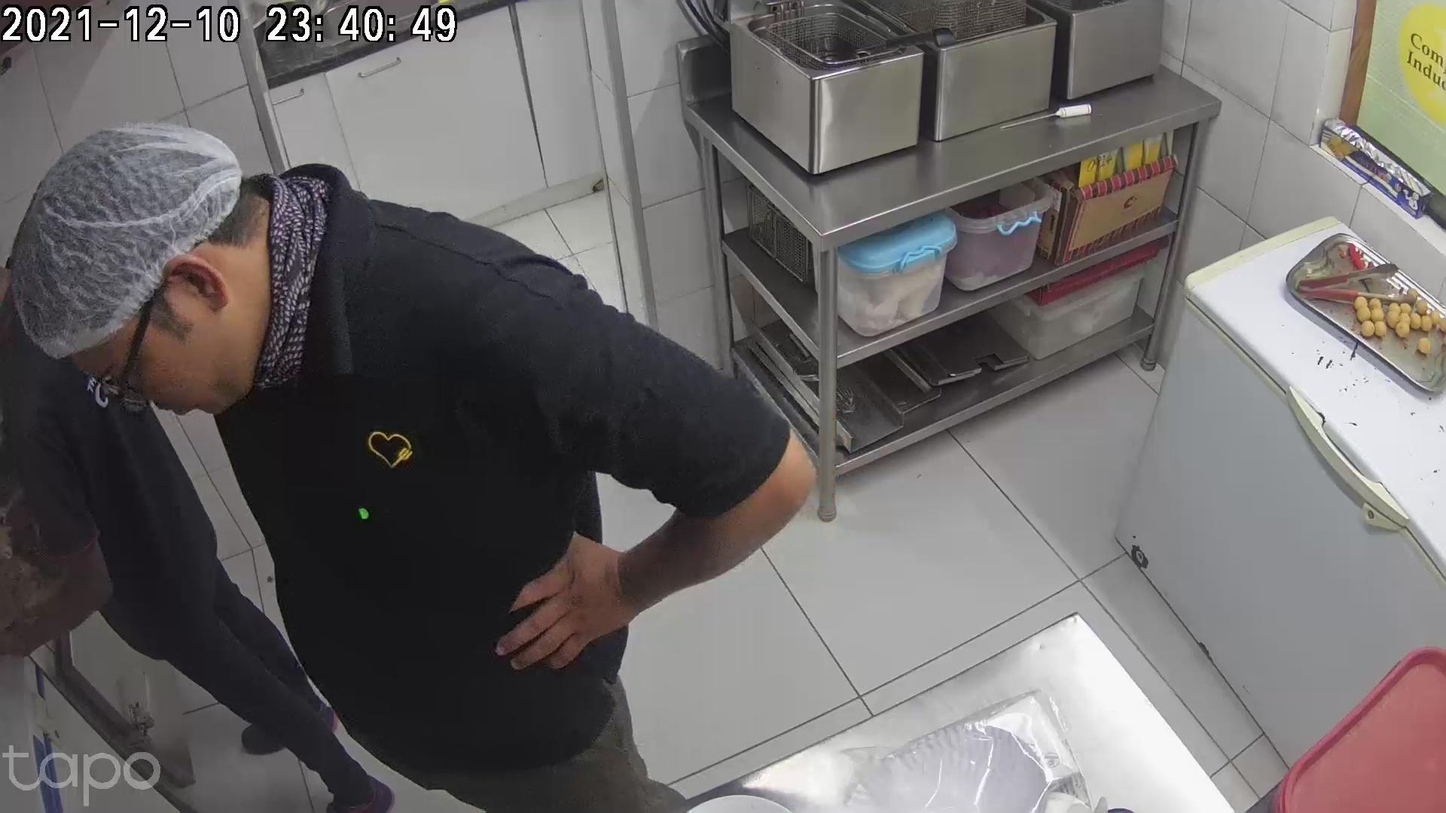no_gloves: (496, 554, 642, 666)
